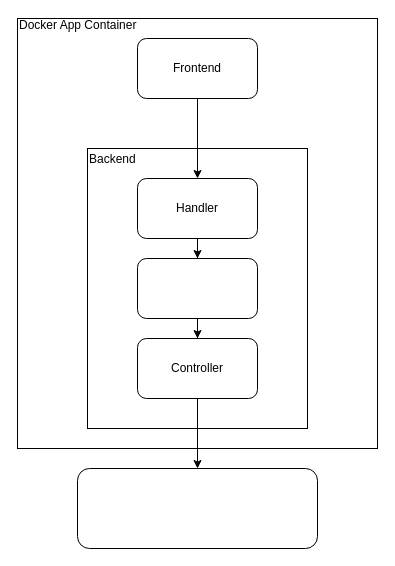
The diagram is 395 pixels wide and 566 high, and some of its shapes have lost their labels. Here are the shapes that lost their labels. From the top down, the centre of each, then its label:
At pixel 197 288: "Service".
At pixel 197 508: "Docker PostgreSQL Container".
